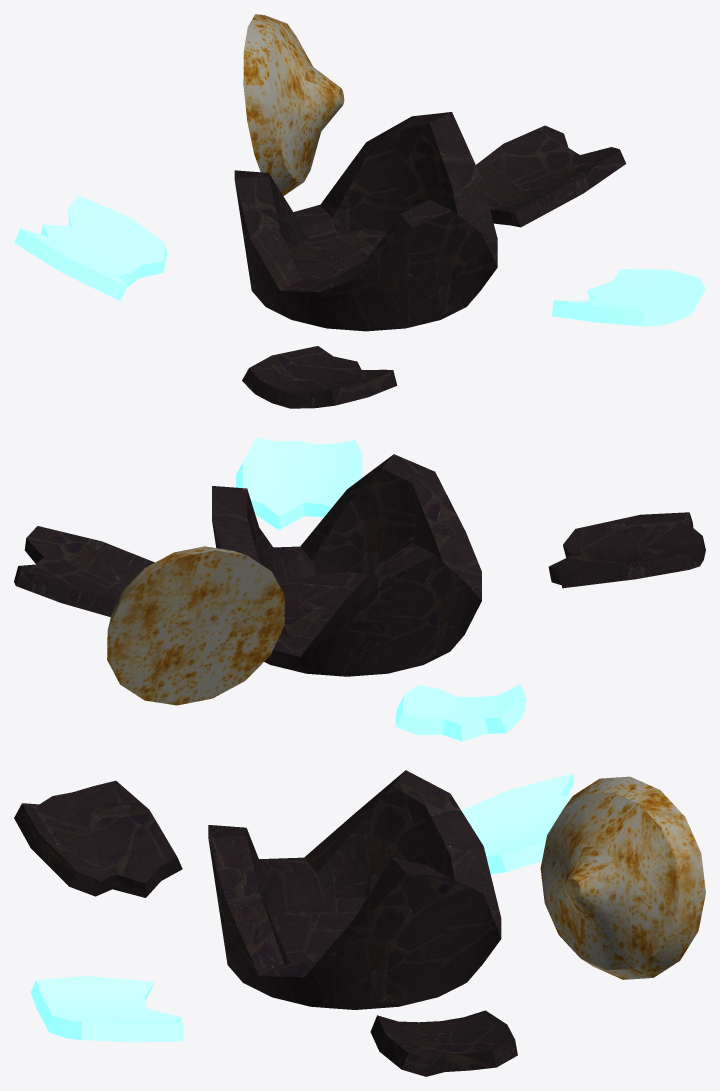
The model's file is prop_urn_shattered.glb.
3 views of the same model, one above another, from view 1: azimuth 30°, elevation 25°; view 2: azimuth 150°, elevation 25°; view 3: azimuth 270°, elevation 25° (orthographic). The views are drawn at different scales.
Parts seen in each view (by area): view 1: UrnBaseRemnant, UrnBrokenLid, UrnShard_1, UrnShard_2, UrnShard_3, UrnShard_4; view 2: UrnBaseRemnant, UrnBrokenLid, UrnShard_3, UrnShard_4, UrnShard_1, UrnShard_2; view 3: UrnBaseRemnant, UrnBrokenLid, UrnShard_3, UrnShard_4, UrnShard_1, UrnShard_2.
Part boxes in pixels (<box>): UrnBaseRemnant: <box>234,112,497,331</box>; UrnBrokenLid: <box>243,14,344,195</box>; UrnShard_1: <box>476,125,626,227</box>; UrnShard_2: <box>14,195,167,301</box>; UrnShard_3: <box>242,346,397,408</box>; UrnShard_4: <box>552,269,705,326</box>; UrnBaseRemnant: <box>212,454,481,676</box>; UrnBrokenLid: <box>107,546,284,705</box>; UrnShard_3: <box>548,512,705,588</box>; UrnShard_4: <box>236,437,362,530</box>; UrnShard_1: <box>14,526,154,617</box>; UrnShard_2: <box>395,684,526,741</box>; UrnBaseRemnant: <box>208,770,501,1009</box>; UrnBrokenLid: <box>540,776,705,979</box>; UrnShard_3: <box>14,780,182,897</box>; UrnShard_4: <box>30,976,184,1042</box>; UrnShard_1: <box>370,1010,517,1076</box>; UrnShard_2: <box>461,773,573,874</box>.
Bounding box in the file's own units: 1.07 × 0.3098 × 1.07.
Materials: 3 (2 with a texture image).
